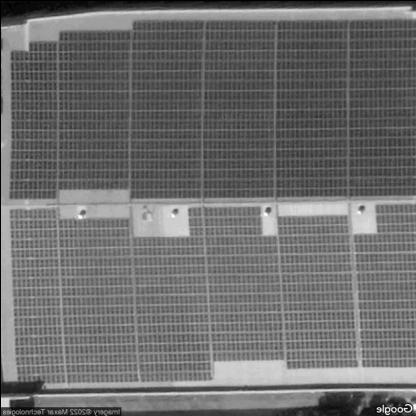solar-pv-panel: (7, 17, 416, 199), (10, 204, 416, 380)
